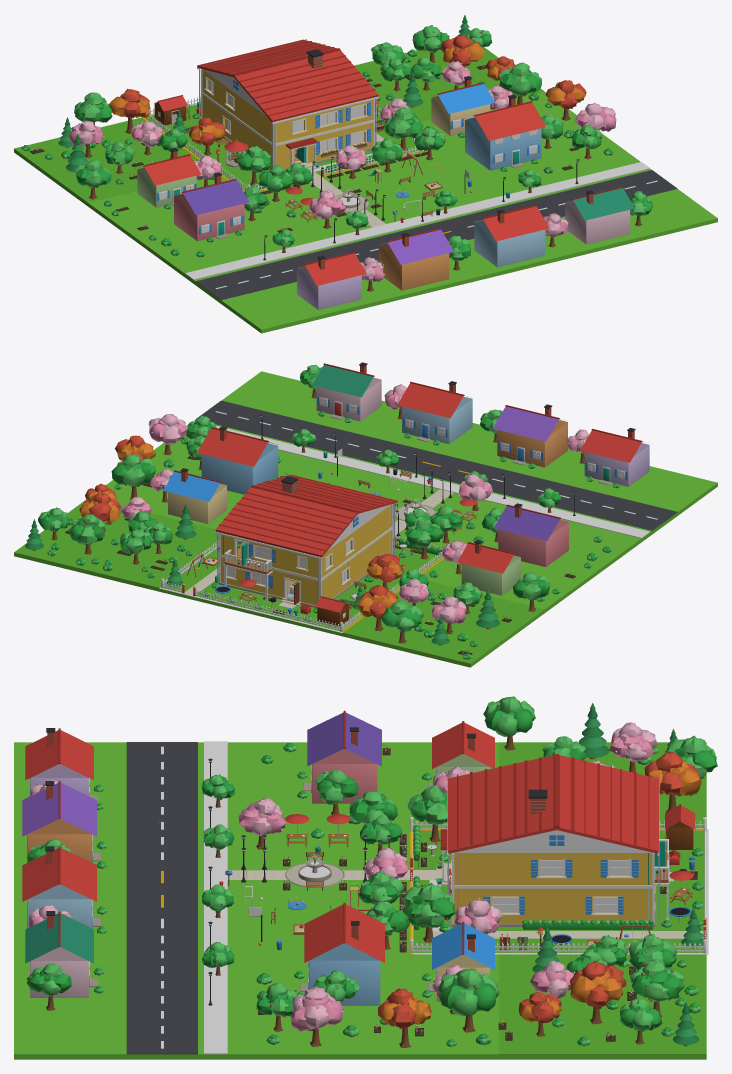
Rendered from RegularDadHouse_V2_Final.fbx.
The picture shows the model from 3 angles, top to bottom: view 1: azimuth 30°, elevation 25°; view 2: azimuth 150°, elevation 25°; view 3: azimuth 270°, elevation 25°; orthographic projection. The views are drawn at different scales.
Parts seen in each view (by area): view 1: O_Arch_1_-2_0, O_Arch_1_0_0, O_Arch_1_-1_0, O_Arch_1_-5_0, O_FurnY_4_-3_0, O_Arch_1_-4_0, O_FurnY_2_-6_0, O_FurnY_0_-6_0, O_FurnY_-2_-3_0, O_FurnY_-1_-6_0, O_FurnY_4_-6_0, O_FurnY_4_-1_0 (+36 smaller); view 2: O_Arch_1_-2_0, O_Arch_1_0_0, O_Arch_1_-5_0, O_Arch_1_1_0, O_FurnY_0_-6_0, O_FurnY_2_-6_0, O_Arch_1_-4_0, O_FurnY_-1_-6_0, O_FurnY_4_-6_0, O_FurnY_4_-1_0, O_FurnY_-2_-1_0, O_FurnY_4_-3_0 (+35 smaller); view 3: O_Arch_1_-2_0, O_Arch_1_0_0, O_Arch_1_-5_0, O_Arch_2_0_0, O_Arch_1_-1_0, O_Arch_1_-4_0, O_FurnY_4_-6_0, O_FurnY_4_-3_0, O_FurnY_2_-6_0, O_Arch_2_-1_0, O_FurnY_0_-6_0, O_FurnY_5_-3_0 (+42 smaller).
Part boxes in pixels (bbox=[...]): O_Arch_1_-2_0: bbox=[14, 91, 717, 333]; O_Arch_1_0_0: bbox=[14, 39, 544, 202]; O_Arch_1_-1_0: bbox=[233, 50, 378, 171]; O_Arch_1_-5_0: bbox=[196, 170, 677, 300]; O_FurnY_4_-3_0: bbox=[465, 101, 573, 175]; O_Arch_1_-4_0: bbox=[185, 162, 649, 279]; O_FurnY_2_-6_0: bbox=[474, 205, 549, 267]; O_FurnY_0_-6_0: bbox=[377, 228, 453, 290]; O_FurnY_-2_-3_0: bbox=[174, 179, 249, 257]; O_FurnY_-1_-6_0: bbox=[297, 252, 385, 309]; O_FurnY_4_-6_0: bbox=[565, 186, 652, 244]; O_FurnY_4_-1_0: bbox=[431, 76, 512, 135]; O_Arch_1_-2_0: bbox=[14, 371, 717, 667]; O_Arch_1_0_0: bbox=[14, 483, 544, 663]; O_Arch_1_-5_0: bbox=[196, 400, 677, 530]; O_Arch_1_1_0: bbox=[215, 512, 335, 608]; O_FurnY_0_-6_0: bbox=[492, 404, 575, 467]; O_FurnY_2_-6_0: bbox=[397, 381, 472, 444]; O_Arch_1_-4_0: bbox=[186, 420, 649, 538]; O_FurnY_-1_-6_0: bbox=[567, 429, 649, 486]; O_FurnY_4_-6_0: bbox=[300, 363, 381, 421]; O_FurnY_4_-1_0: bbox=[149, 468, 226, 523]; O_FurnY_-2_-1_0: bbox=[457, 542, 520, 595]; O_FurnY_4_-3_0: bbox=[192, 427, 281, 494]; O_Arch_1_-2_0: bbox=[14, 742, 706, 1059]; O_Arch_1_0_0: bbox=[413, 742, 706, 1054]; O_Arch_1_-5_0: bbox=[126, 742, 197, 1054]; O_Arch_2_0_0: bbox=[432, 789, 706, 938]; O_Arch_1_-1_0: bbox=[436, 755, 556, 893]; O_Arch_1_-4_0: bbox=[204, 741, 227, 1054]; O_FurnY_4_-6_0: bbox=[25, 911, 93, 1010]; O_FurnY_4_-3_0: bbox=[258, 902, 380, 1014]; O_FurnY_2_-6_0: bbox=[22, 846, 96, 928]; O_Arch_2_-1_0: bbox=[447, 853, 540, 925]; O_FurnY_0_-6_0: bbox=[22, 781, 96, 862]; O_FurnY_5_-3_0: bbox=[256, 980, 355, 1046].
Bounding box in the file's own units: 255 × 44.25 × 237.
